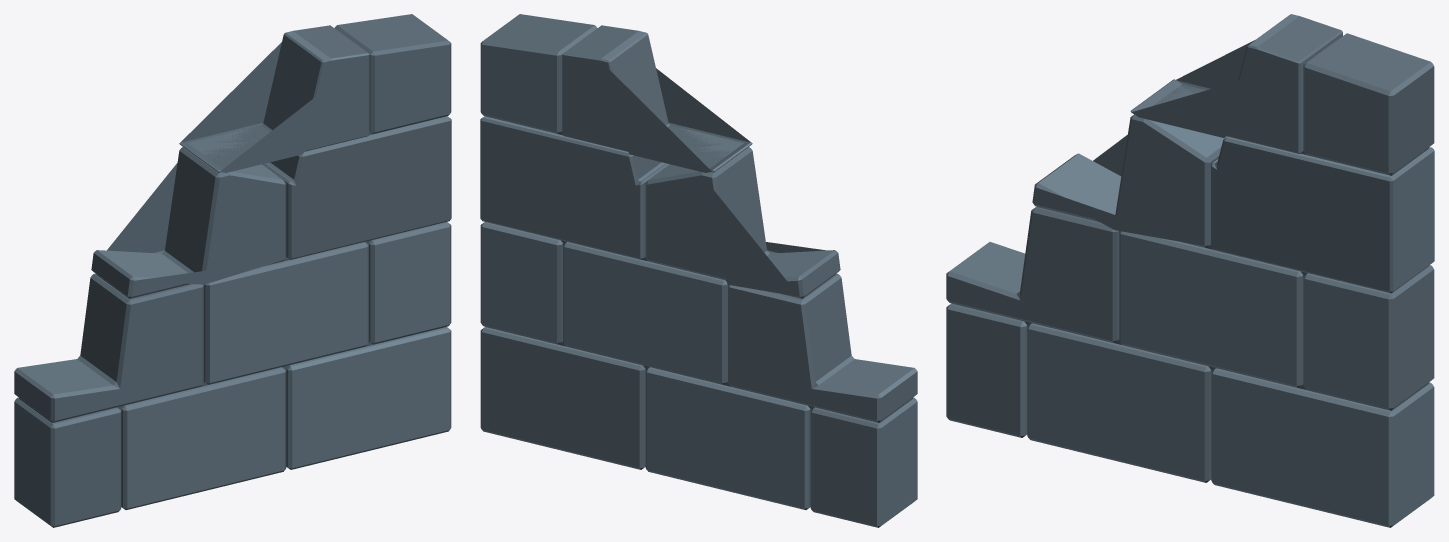
File: A18_Ruin_Wall_2m.fbx
3 renders of one model, left to right at view 1: azimuth 30°, elevation 25°; view 2: azimuth 150°, elevation 25°; view 3: azimuth 330°, elevation 25°, orthographic. The views are drawn at different scales.
Parts seen in each view (by area): view 1: A18_Ruin_Wall_2m; view 2: A18_Ruin_Wall_2m; view 3: A18_Ruin_Wall_2m.
Part boxes in pixels (left/top/right/bottom): A18_Ruin_Wall_2m: left=14, top=14, right=451, bottom=527; A18_Ruin_Wall_2m: left=480, top=14, right=917, bottom=527; A18_Ruin_Wall_2m: left=946, top=14, right=1434, bottom=527.
Bounding box in the file's own units: 1.99 × 1.91 × 0.34.
Materials: 1 (1 with a texture image).
